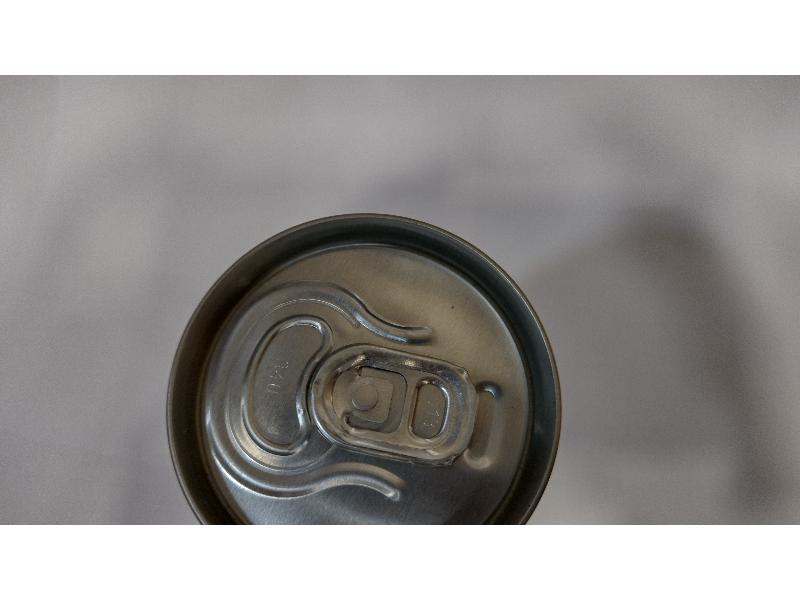can: (161, 204, 577, 523)
